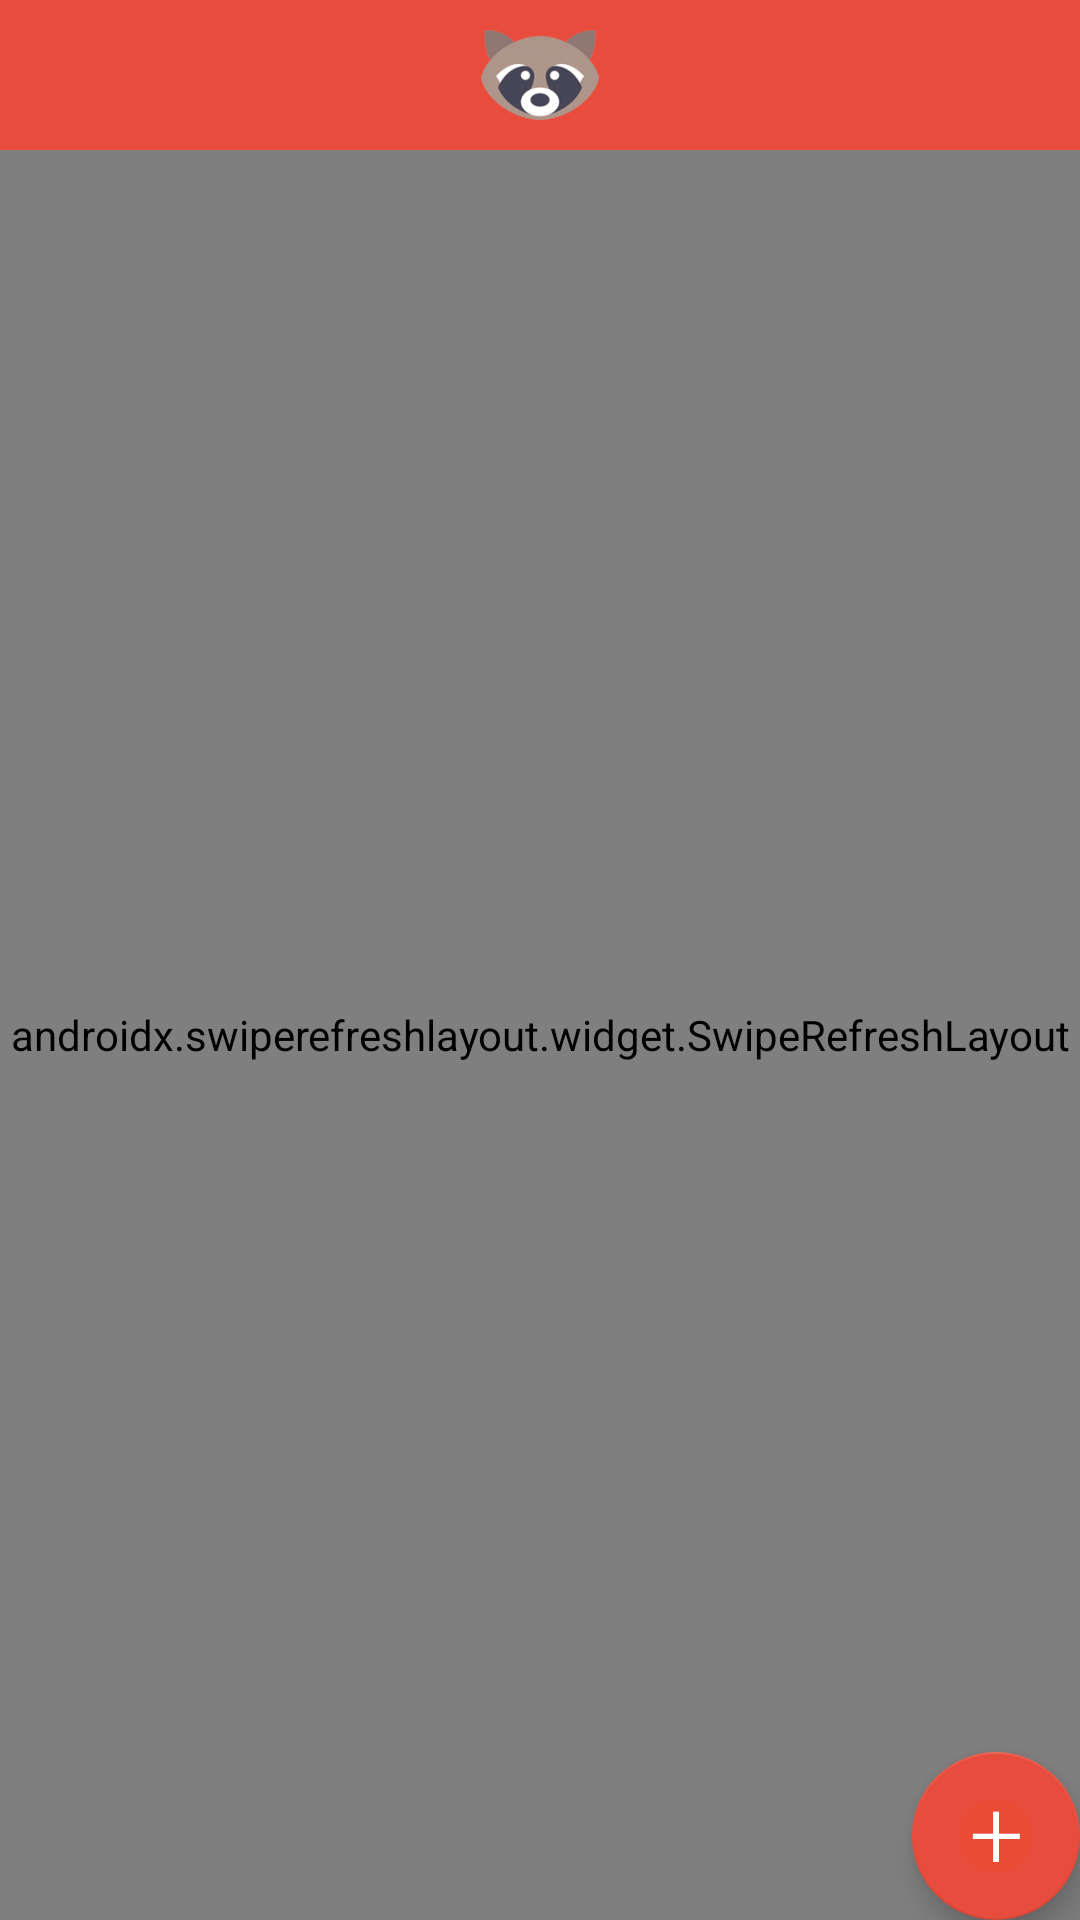

Point at icon controls on the screen. Image size 1080×1920, points as [x,y].
add post: [996,1836]
